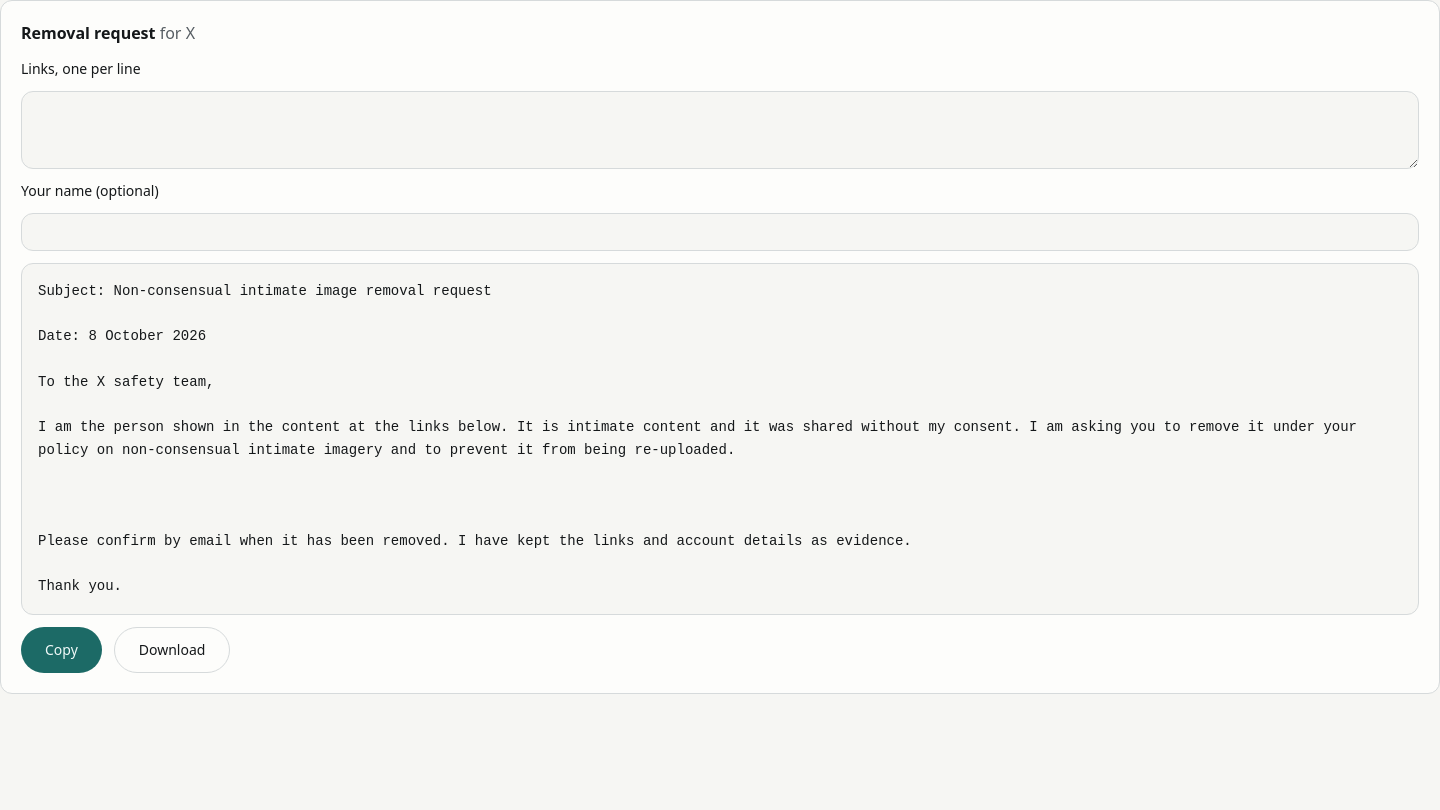
Scenario: deferred minors › tells the person to copy by hand when the clipboard is blocked
Step 1. Click the button "Copy" → (61, 650), box 21,627 -> 102,673
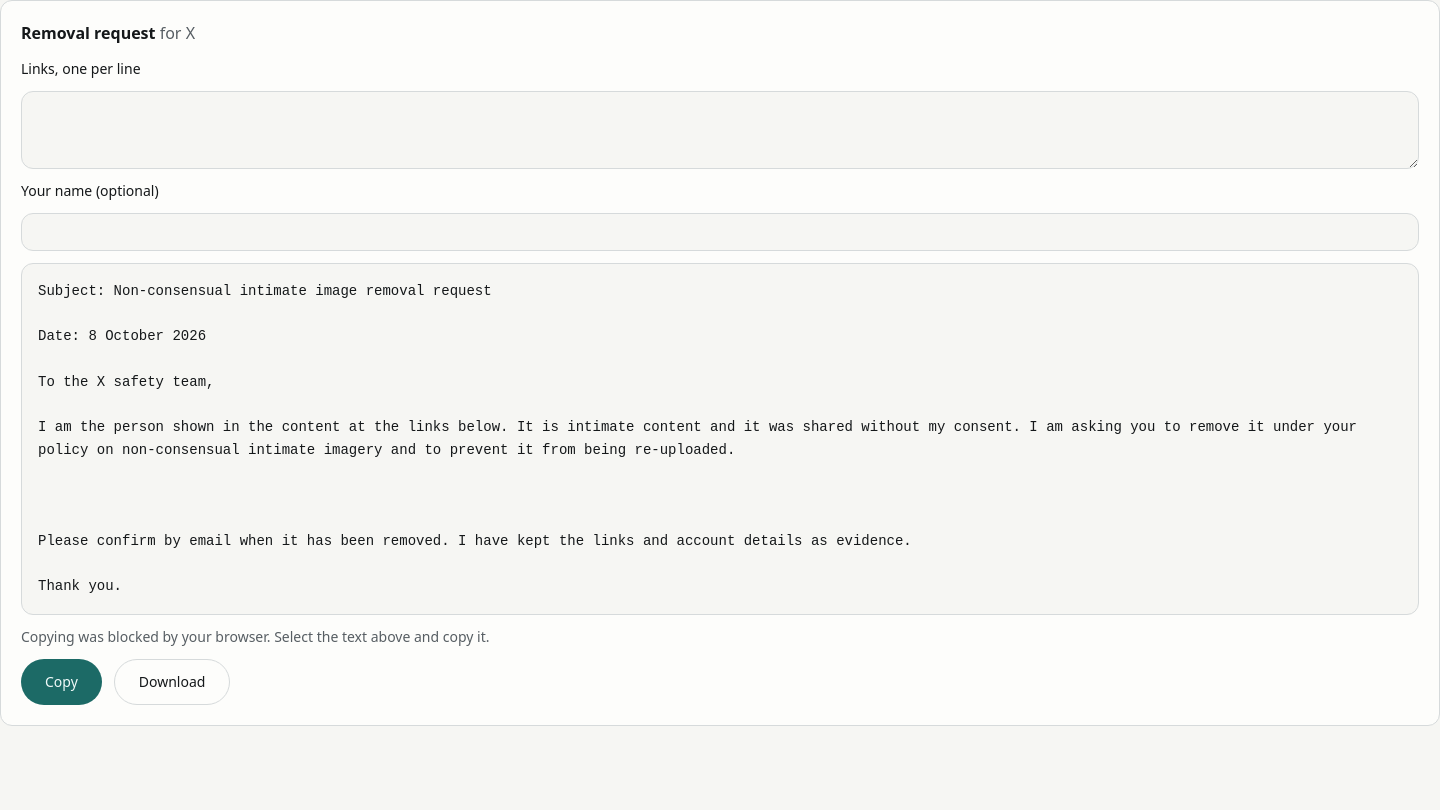
Expected: the text "Copying was blocked by your browser. Select the text above and copy it." is shown, 21,627 -> 490,646
